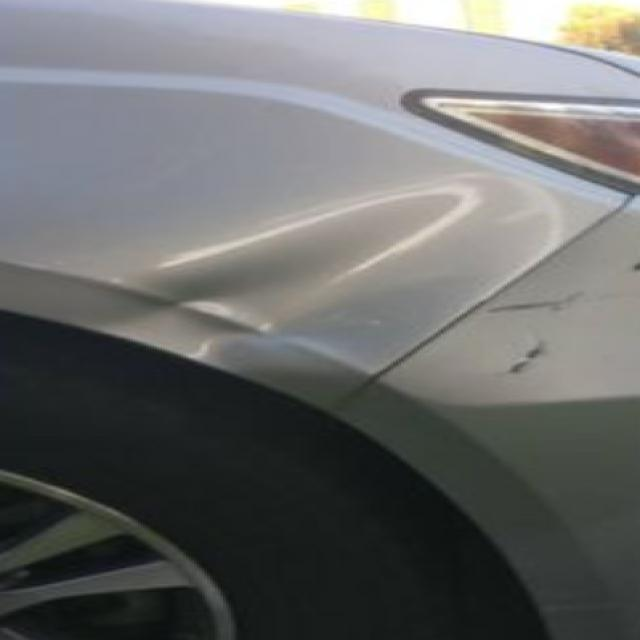dents: (85, 190, 512, 371)
